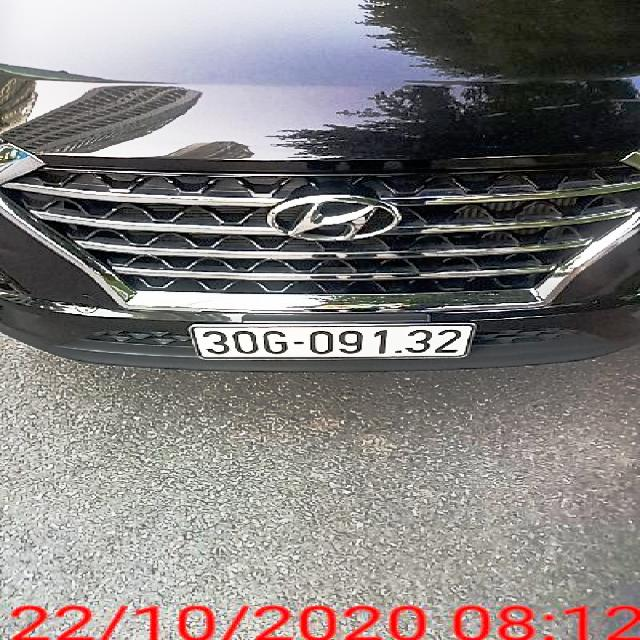license_plate: (193, 325, 476, 361)
